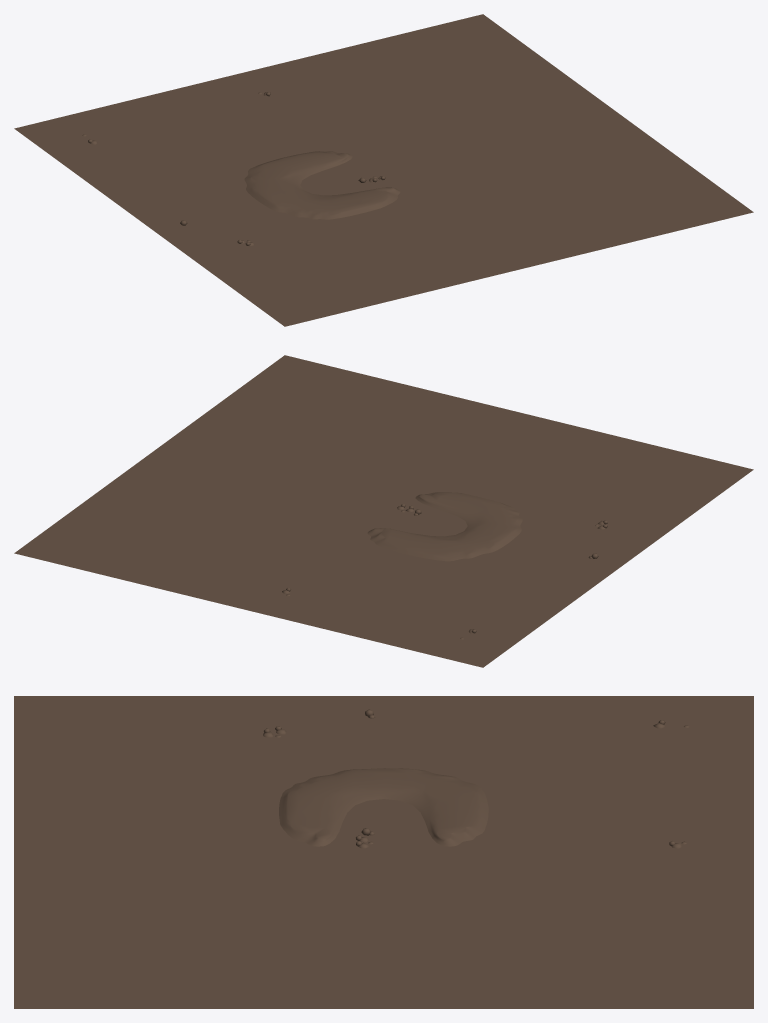
File: Map_MDL.fbx
3 views of the same model, one above another, from view 1: azimuth 30°, elevation 25°; view 2: azimuth 150°, elevation 25°; view 3: azimuth 270°, elevation 25° (orthographic). The views are drawn at different scales.
Parts seen in each view (by area): view 1: Icosphere.020; view 2: Icosphere.020; view 3: Icosphere.020.
Part boxes in pixels (left/top/right/bottom): Icosphere.020: left=14, top=14, right=753, bottom=326; Icosphere.020: left=14, top=355, right=753, bottom=667; Icosphere.020: left=14, top=696, right=753, bottom=1008.
Size of the model in its own units: 10000 by 180 by 10000.
